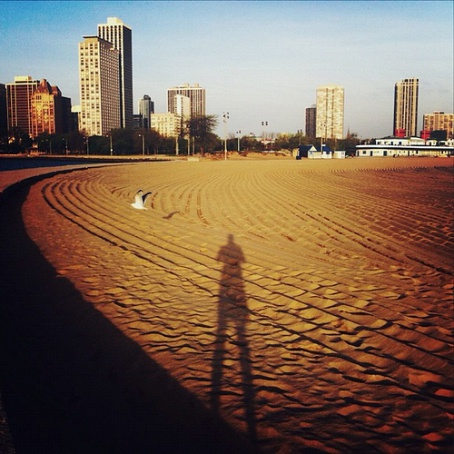beach: (31, 163, 454, 454)
building: (69, 15, 137, 133), (1, 72, 71, 134), (165, 84, 214, 137), (386, 74, 422, 143), (303, 88, 344, 146), (134, 97, 173, 142), (421, 113, 454, 144)
sky: (1, 1, 444, 127)
